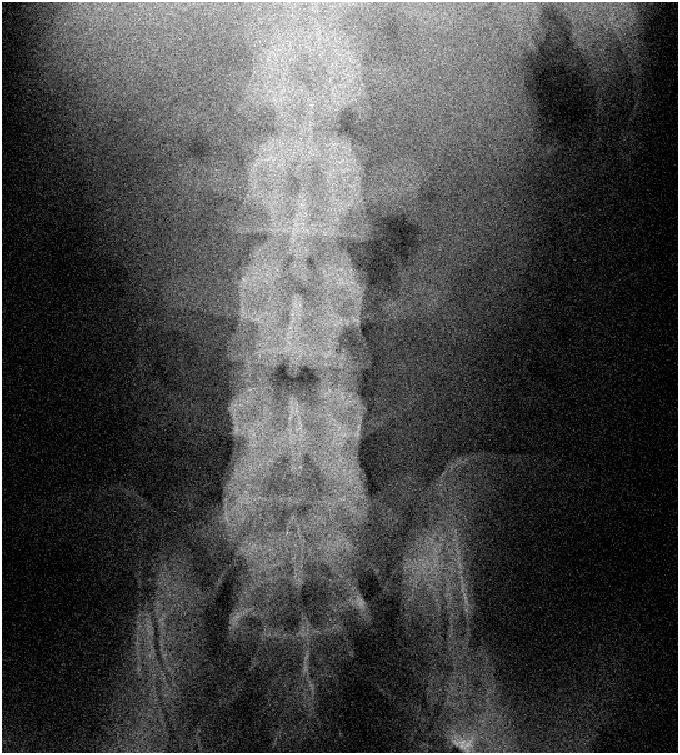lumbar scoliosis: (213, 287, 409, 604)
